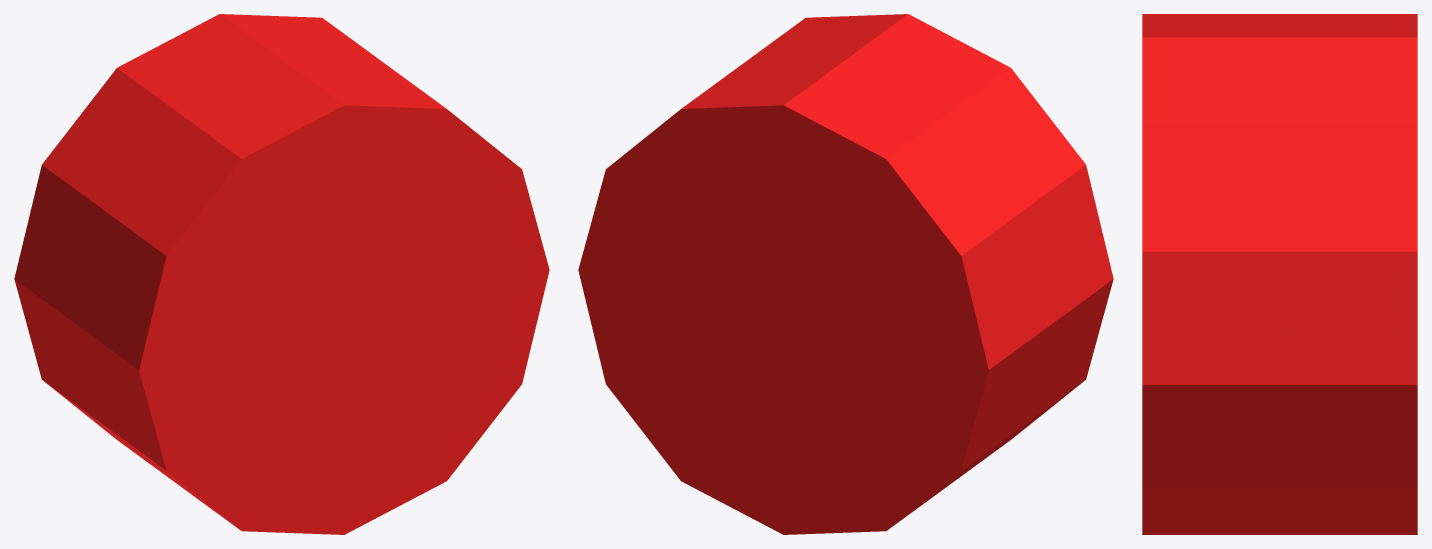
Rendered from saber_red.obj.
3 renders of one model, left to right at view 1: azimuth 30°, elevation 25°; view 2: azimuth 150°, elevation 25°; view 3: azimuth 270°, elevation 25°, orthographic. The views are drawn at different scales.
Visible parts, largest first — view 1: Cylinder; view 2: Cylinder; view 3: Cylinder.
Part boxes in pixels (bbox=[...]): Cylinder: bbox=[14, 14, 549, 534]; Cylinder: bbox=[578, 14, 1113, 534]; Cylinder: bbox=[1142, 14, 1417, 534].
Bounding box in the file's own units: 1.9 × 1.9 × 1.
1 material, 1 textured.
